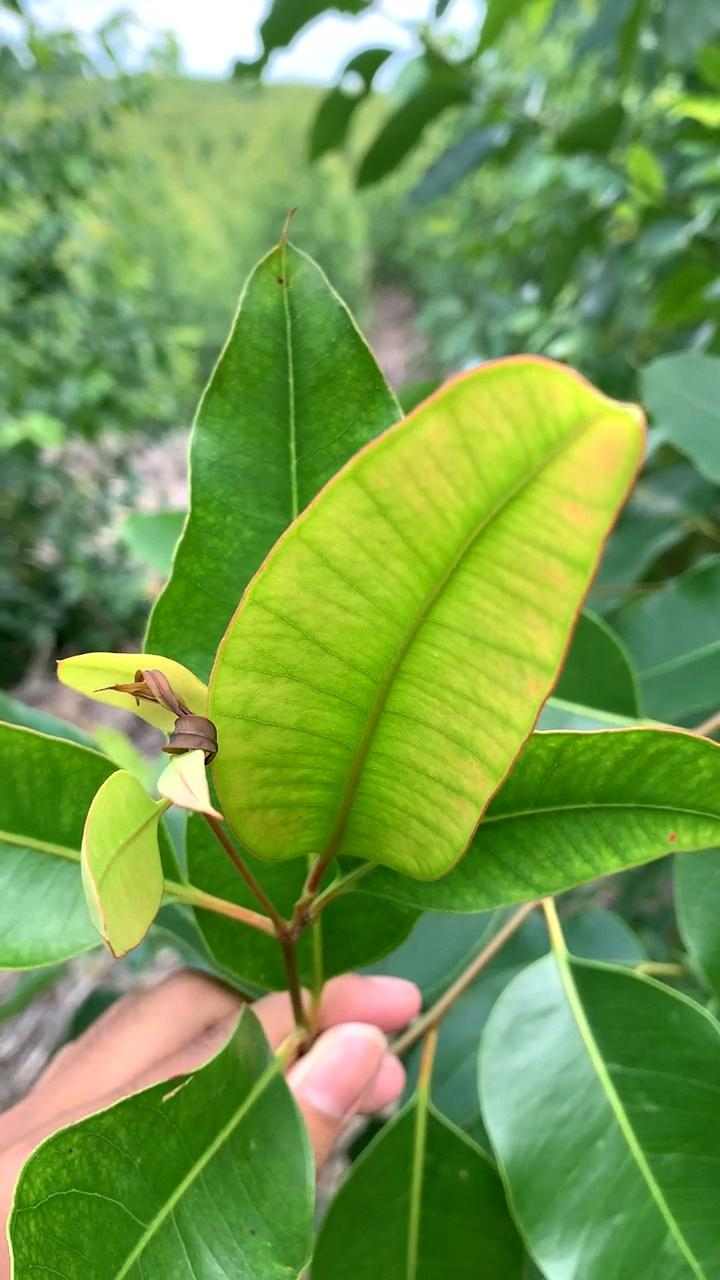Helopeltis-Withered Sprout: (116, 653, 231, 771)
